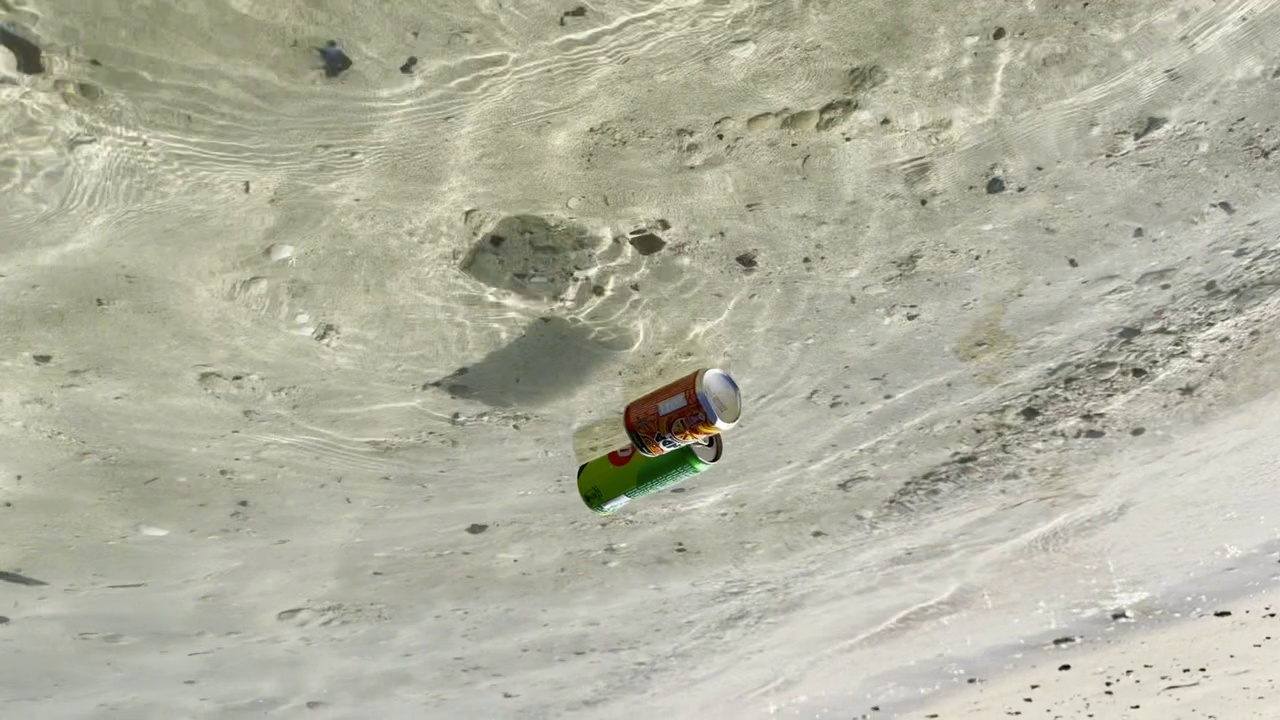debris: (575, 411, 725, 528), (616, 358, 747, 464)
